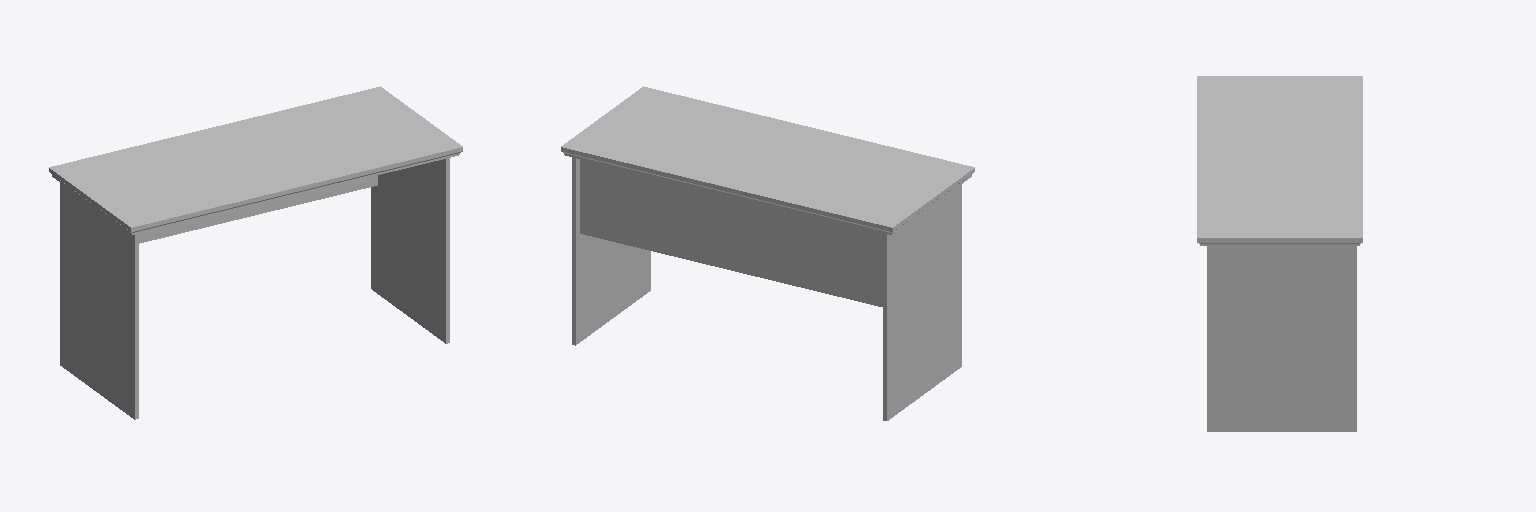
Rendered from table_large_3_2.obj.
The picture shows the model from 3 angles: view 1: azimuth 30°, elevation 25°; view 2: azimuth 150°, elevation 25°; view 3: azimuth 270°, elevation 25°; orthographic projection.
Visible parts, largest first — view 1: table_large_3_2; view 2: table_large_3_2; view 3: table_large_3_2.
Part boxes in pixels (bbox=[...]): table_large_3_2: bbox=[49, 86, 462, 419]; table_large_3_2: bbox=[561, 86, 974, 420]; table_large_3_2: bbox=[1197, 76, 1362, 431].
Size of the model in its own units: 1.6 by 0.91 by 0.69.